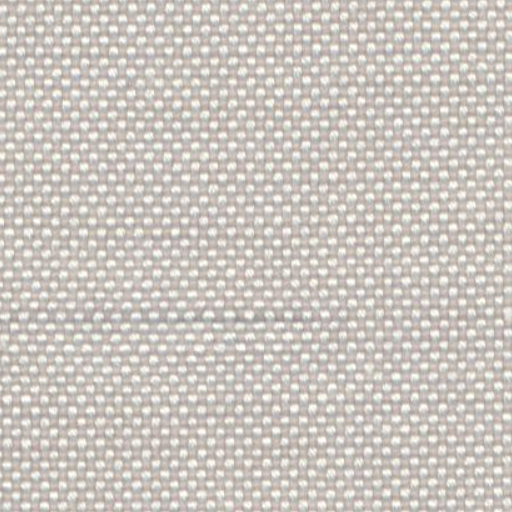WuZi: (20, 303, 304, 328)
